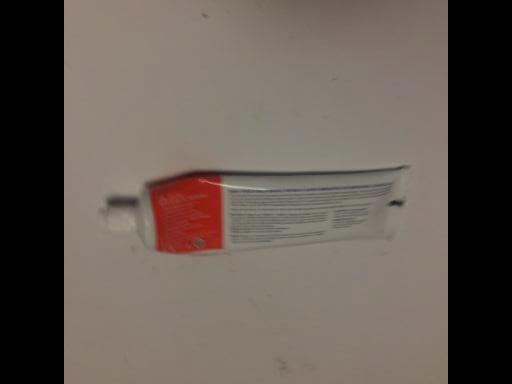glass: (121, 166, 412, 260)
